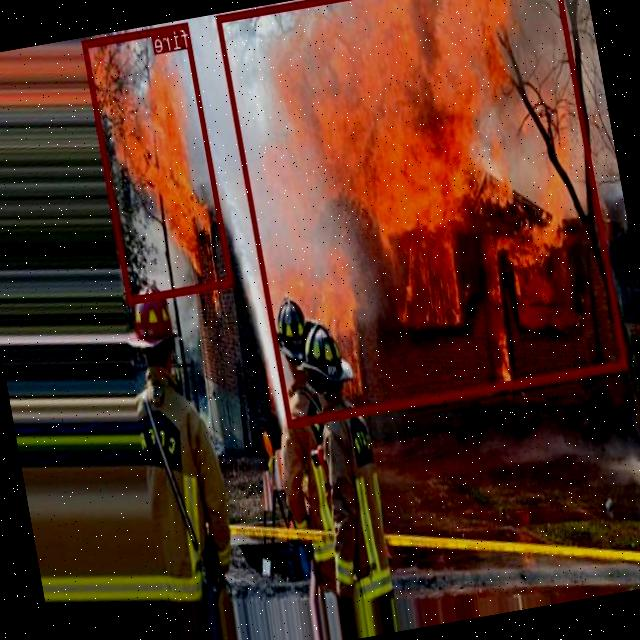fire: (217, 0, 628, 425), (82, 21, 234, 302)
